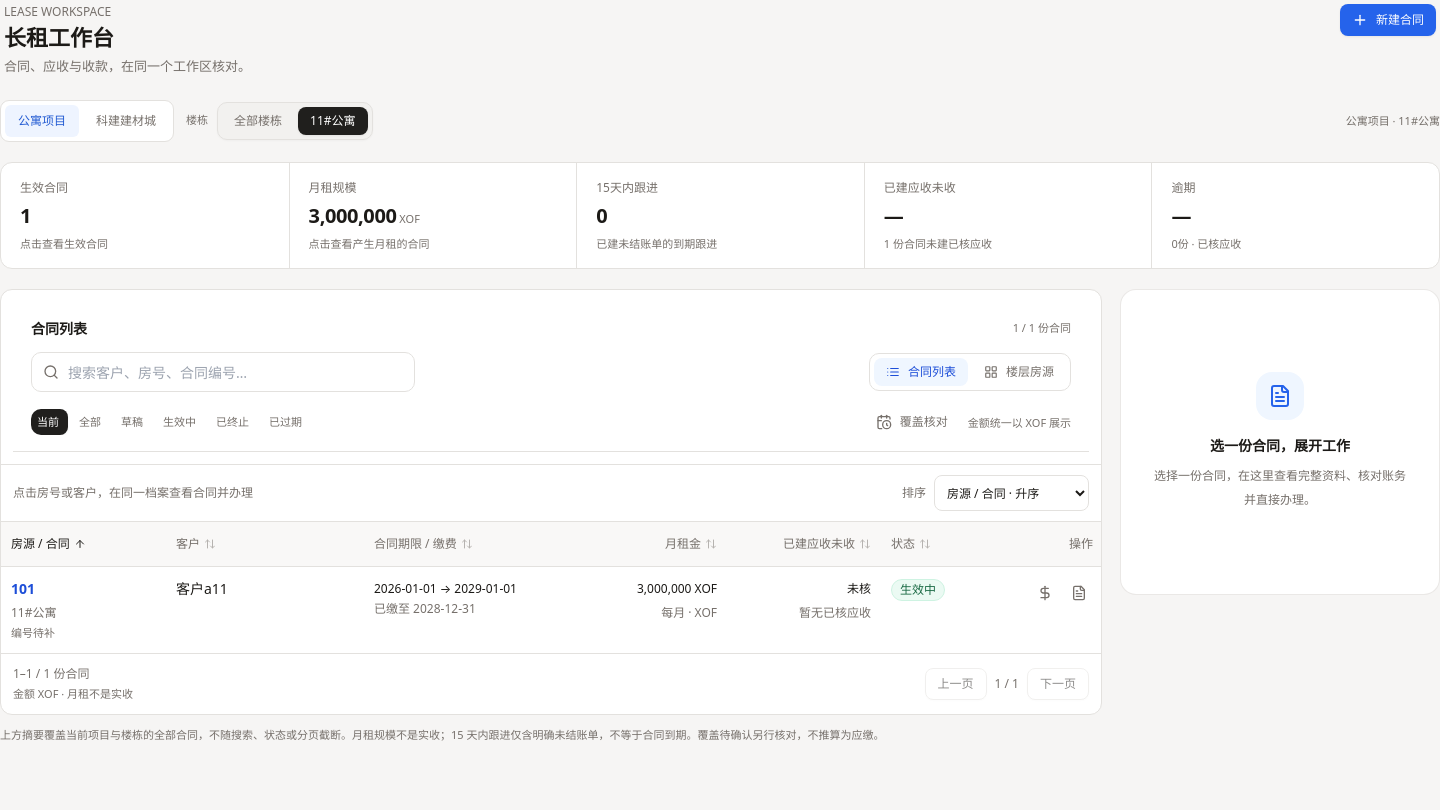
Test case: scopes buildings, contract cards and statistics together; remembers each project's building
Expected: the element named "楼栋切换" does not show "第一栋"
Expected: the text "客户c1" is not shown
Click the button "科建建材城".
click(126, 120)  # box [83,104,169,136]
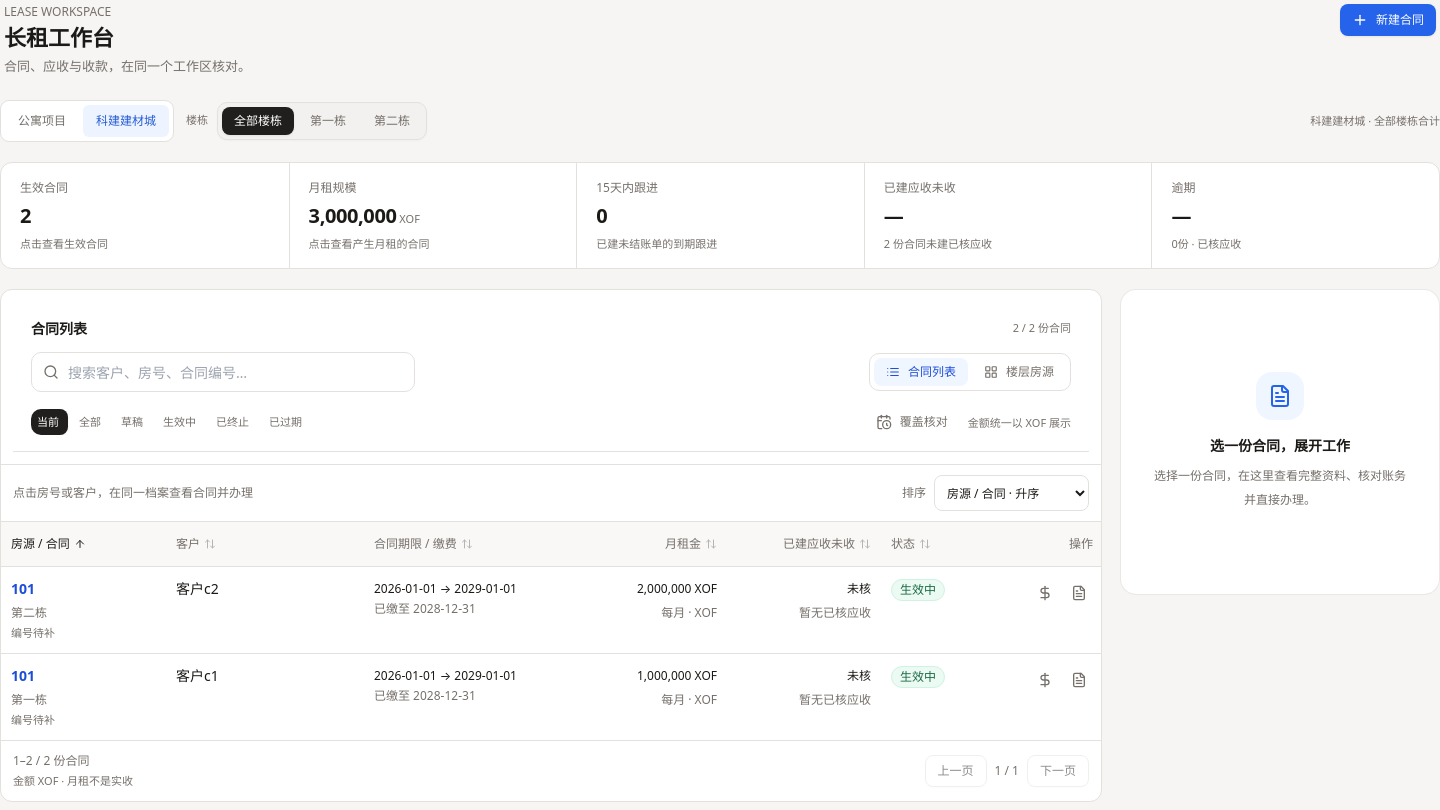
Expected: the button named "楼栋切换" no longer shows "11#公寓"
Expected: the text "客户c1" is shown, [176,666,219,686]
Expected: the text "客户c2" is shown, [176,579,219,599]
Click the button "楼层房源".
click(1019, 372)  # box [972,358,1066,386]
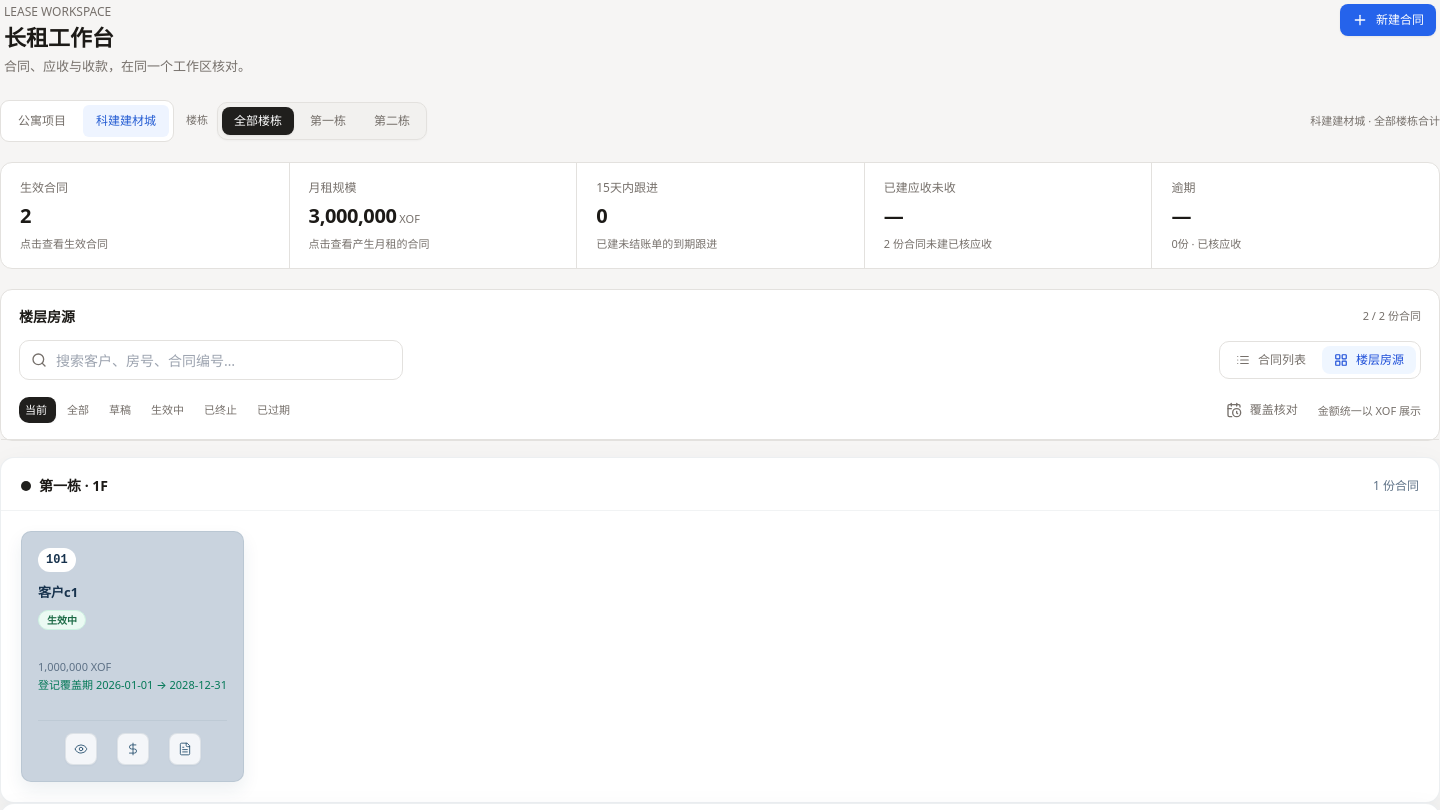
Expected: the button "第二栋" is shown
Click the button "第二栋".
click(392, 120)  # box [362,106,422,134]
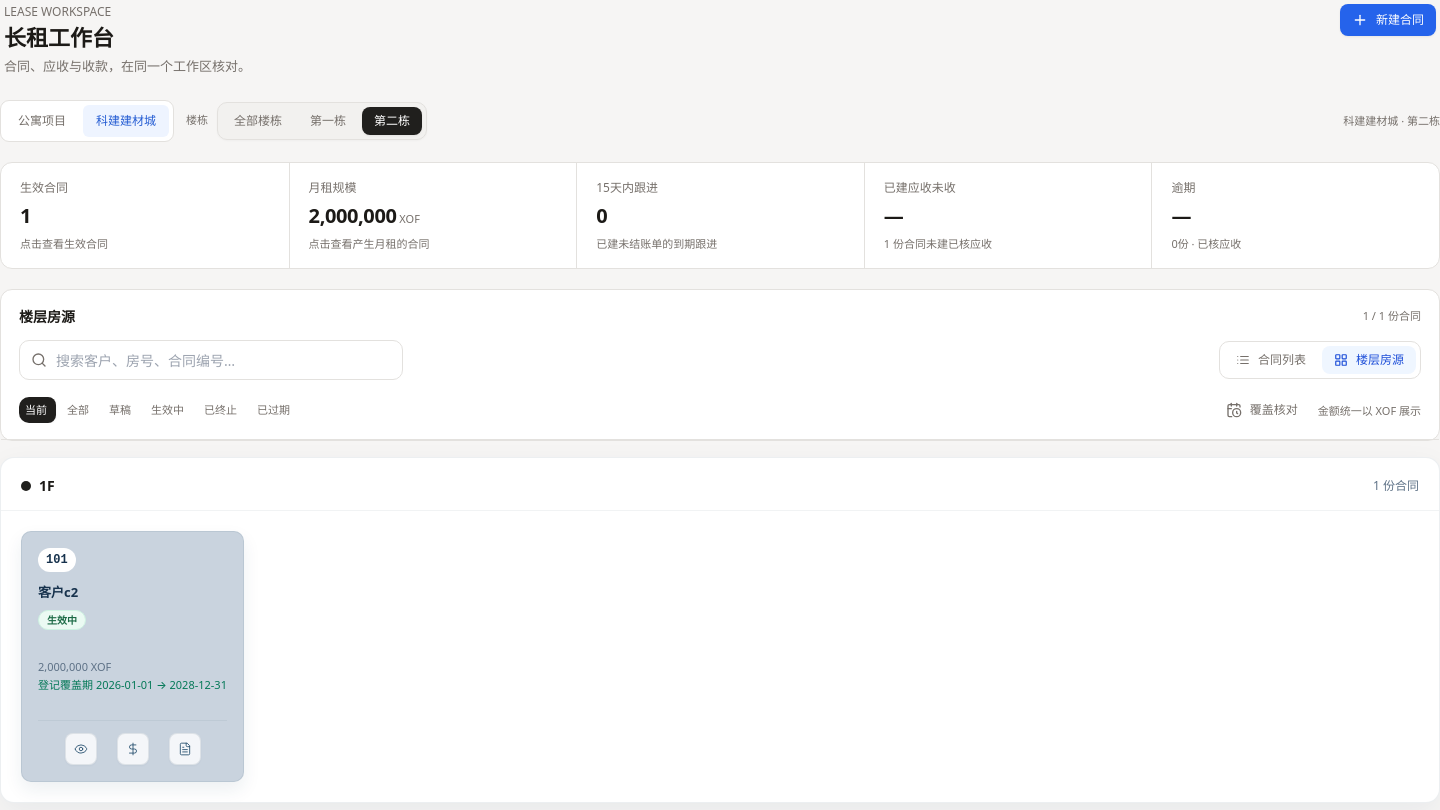
Expected: the text "客户c1" is gone
Expected: the button "生效合同 1 点击查看生效合同" is shown, [1,162,289,268]
Click the button "公寓项目".
click(42, 120)  # box [5,104,79,136]
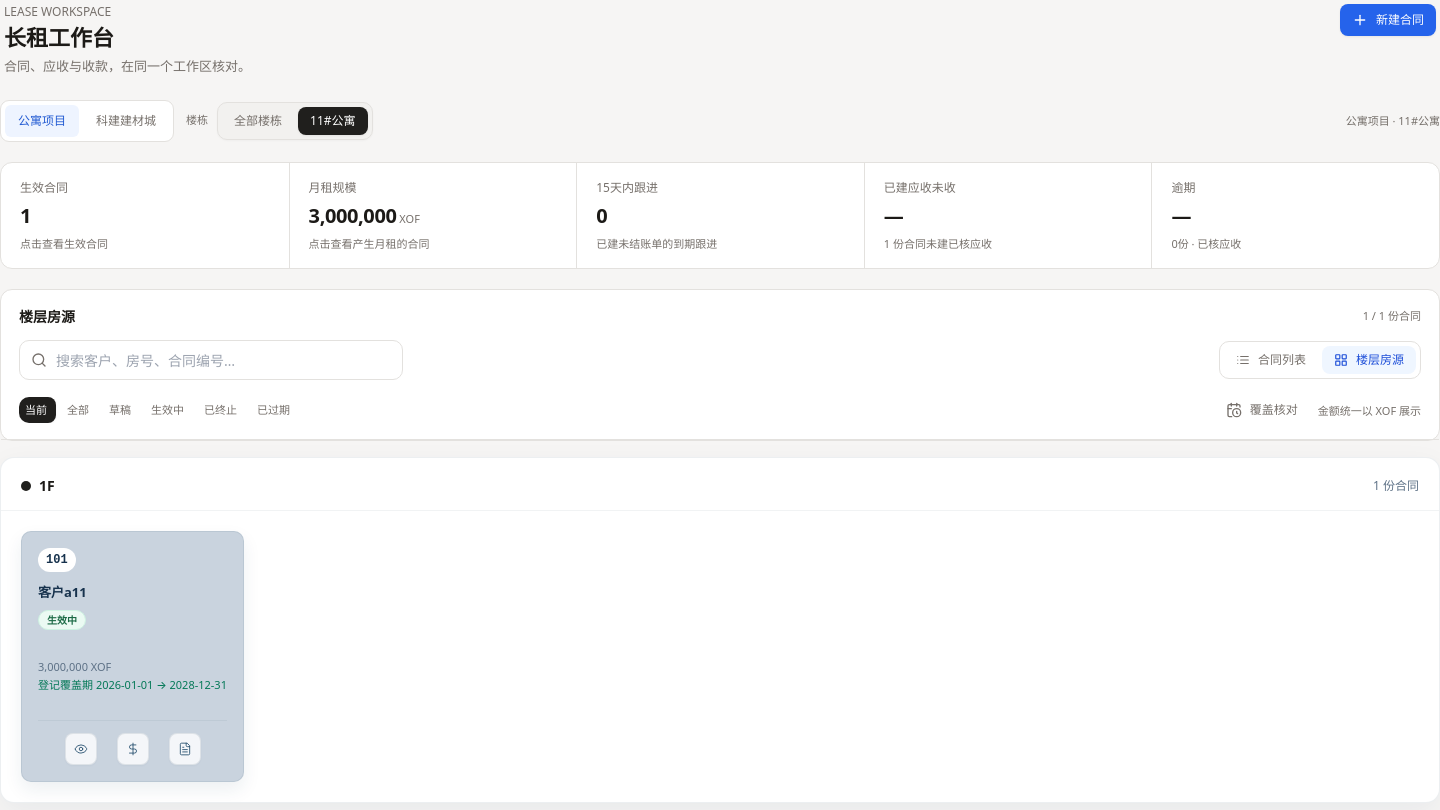
Click the button "科建建材城".
click(126, 120)  # box [83,104,169,136]
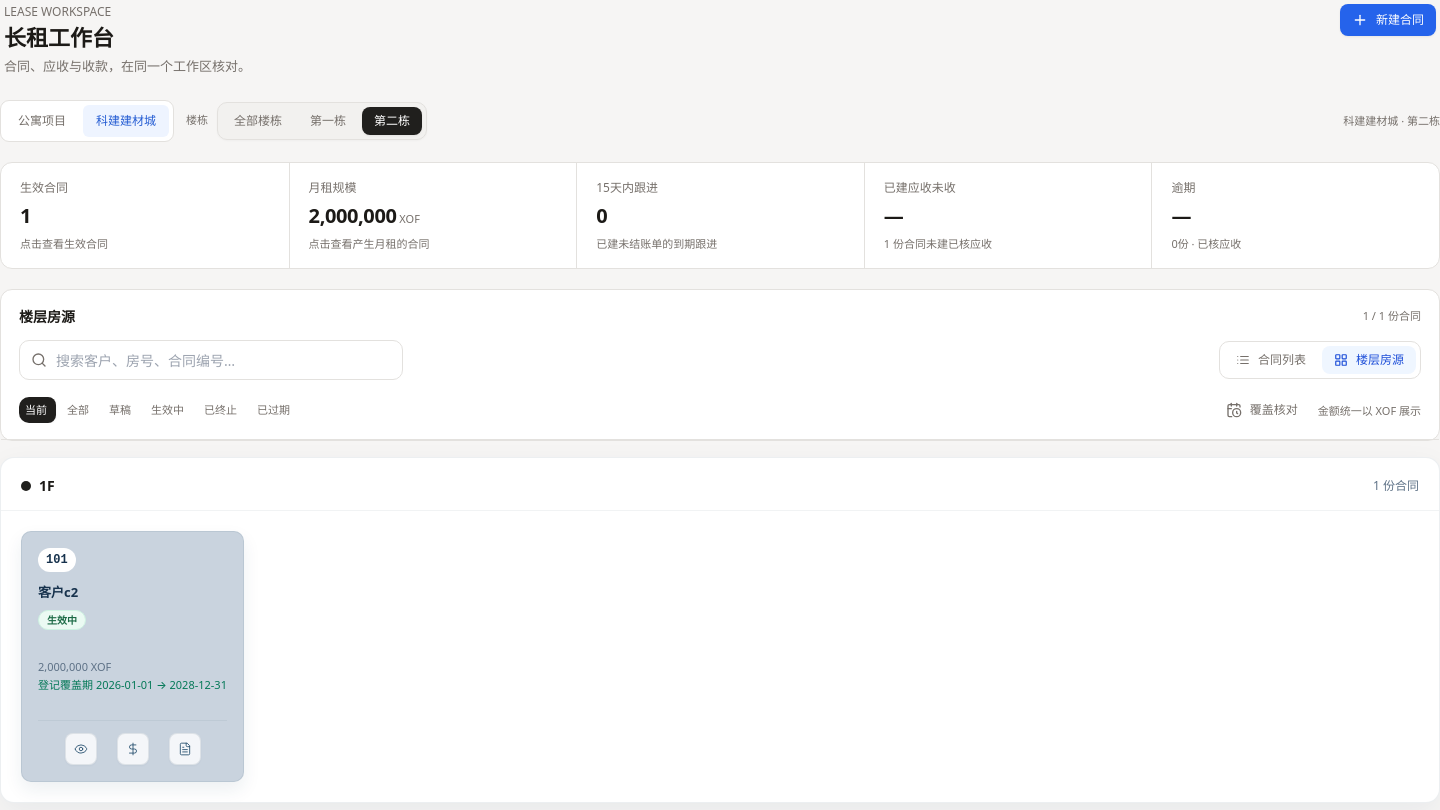
Expected: the text "客户c1" is not shown
Expected: the text "客户c2" is shown, [38,583,78,601]
